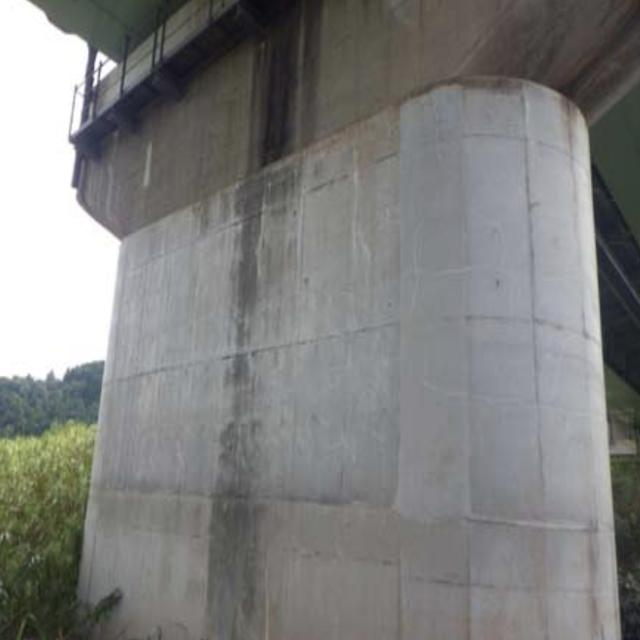leakage: (213, 163, 300, 640)
